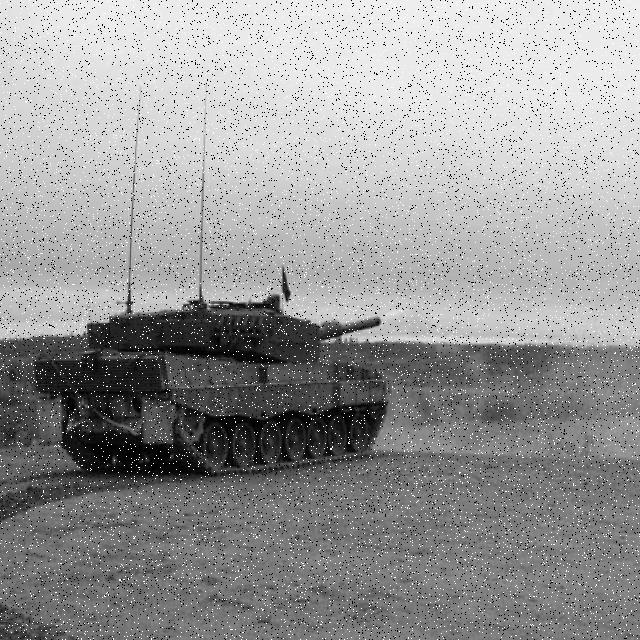MIL_MBT: (27, 68, 457, 579)
